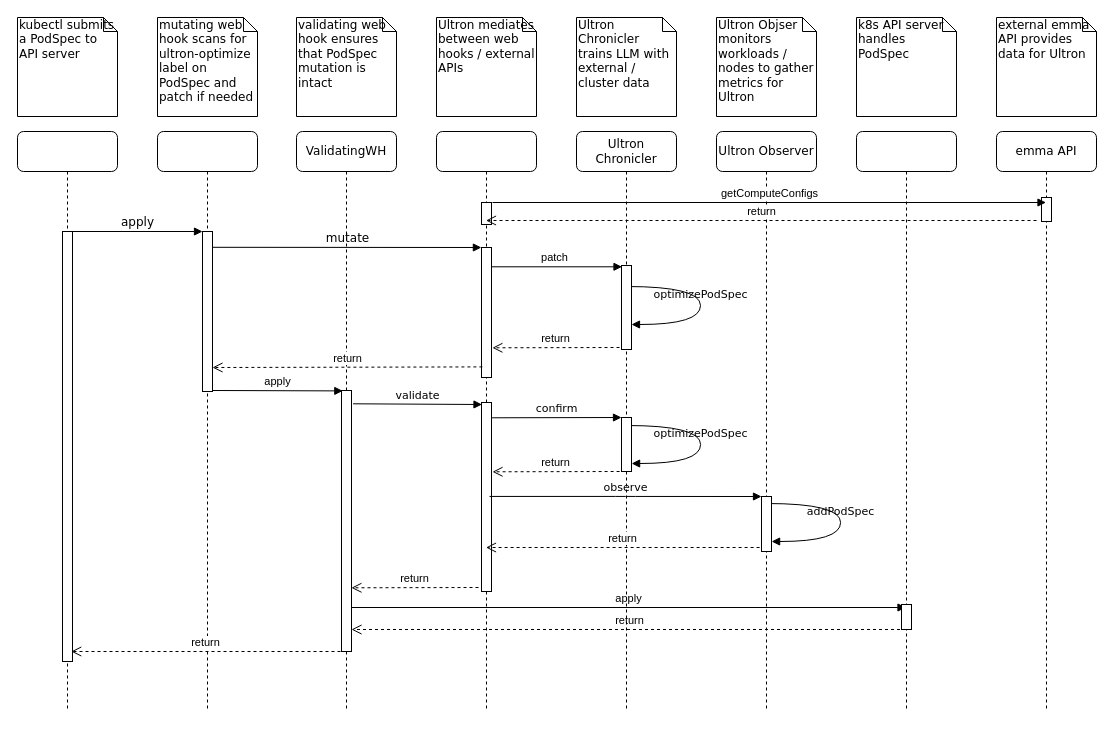
The diagram is 1114 pixels wide and 729 high, and some of its shapes have lost their labels. The box of each missing label's shape, as (x1, y1, x2, y2) in pixels:
API Server: (856, 130, 956, 712)
kubectl: (16, 130, 118, 712)
MutatingWH: (156, 130, 258, 712)
Ultron: (436, 130, 536, 712)
